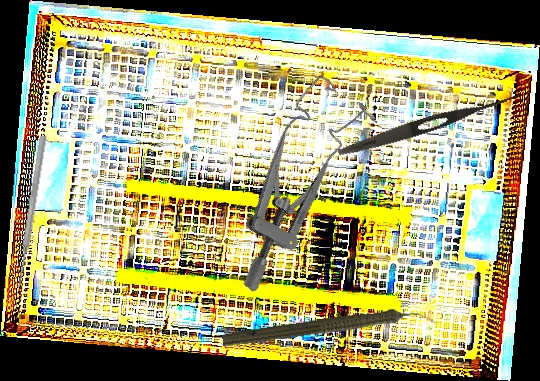Dressing Forceps: (336, 87, 521, 161)
Handpiece: (221, 300, 436, 356)
Pusher: (14, 135, 48, 289)
Speculum: (184, 70, 394, 295)
